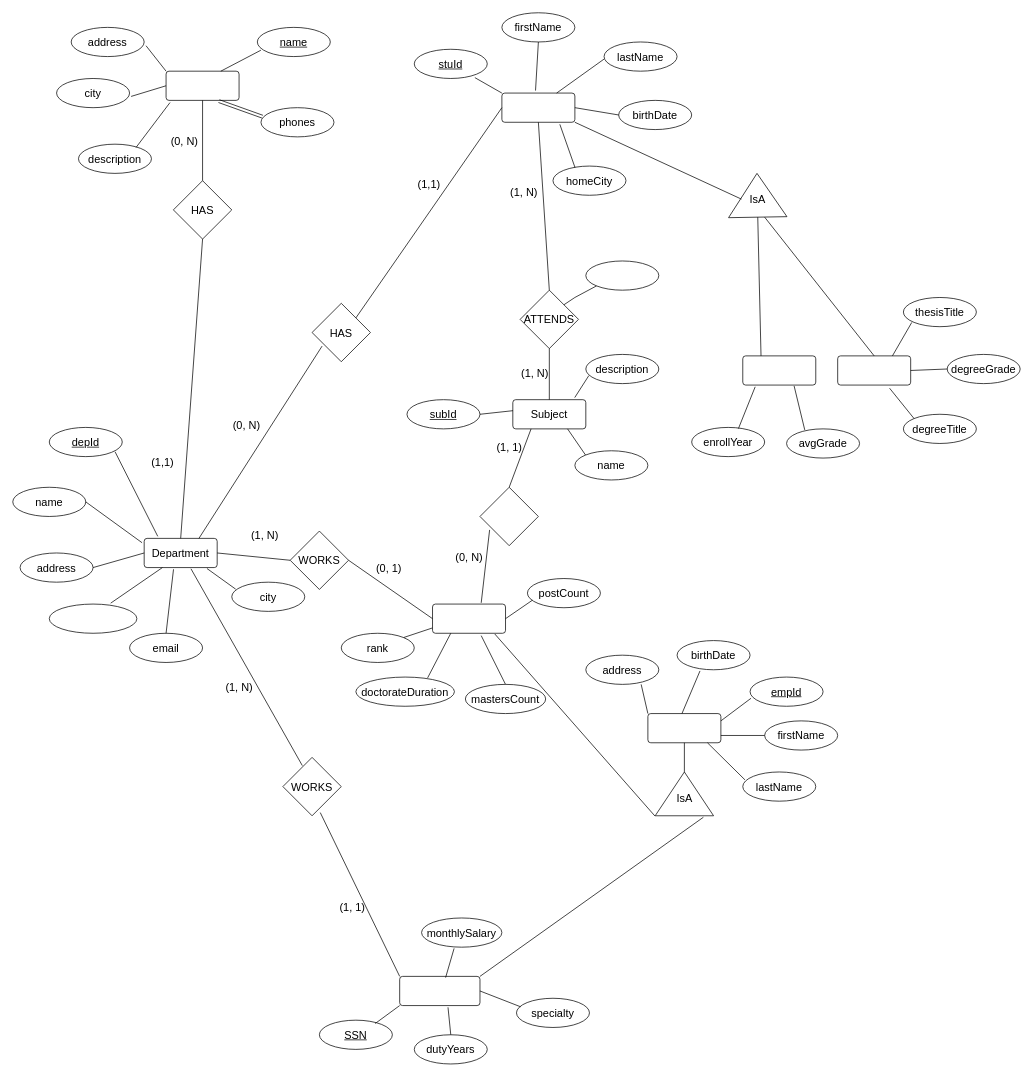
Image size: 1033x1077. Some labels were removed from this diagram. Here are the shapes that lost their labels. From the top down, the box of each, then its label:
(165, 70, 239, 100): University
(501, 92, 575, 122): Student
(585, 260, 659, 290): grade
(742, 355, 816, 385): preDegree
(837, 355, 911, 385): postDegree
(479, 487, 538, 546): TEACHES
(49, 603, 137, 633): receptionPhone
(432, 603, 506, 633): Professor
(647, 713, 721, 743): Employee
(399, 976, 480, 1006): HeadEmployee
